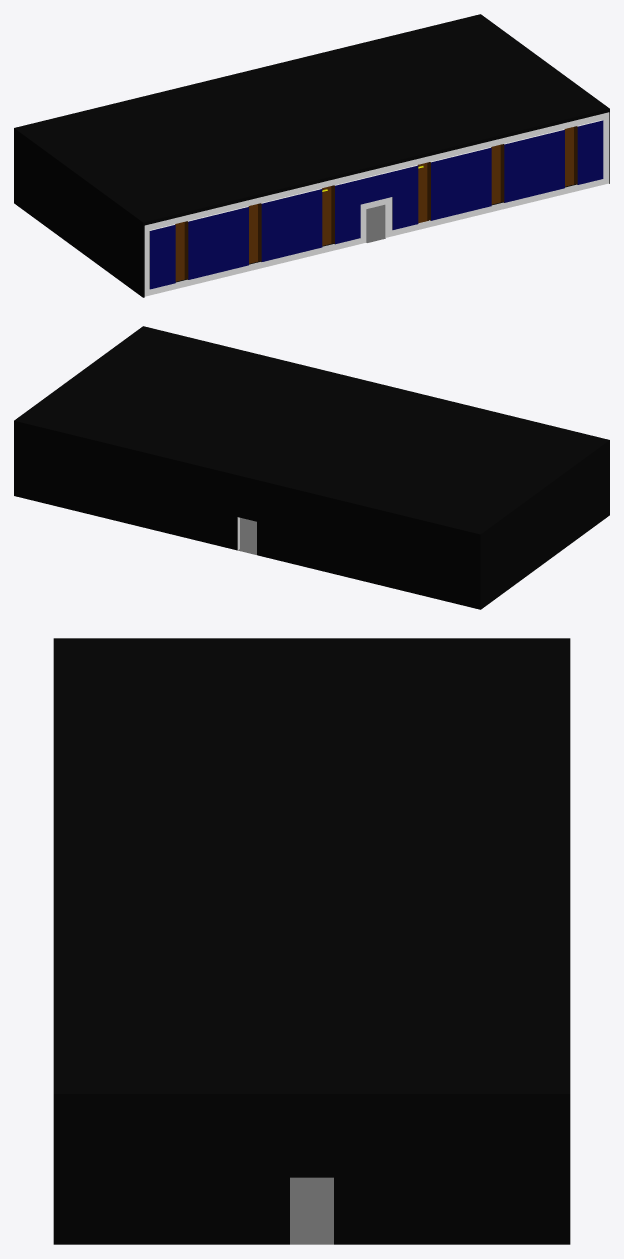
File: MainRoom 1.fbx
The picture shows the model from 3 angles, top to bottom: view 1: azimuth 30°, elevation 25°; view 2: azimuth 150°, elevation 25°; view 3: azimuth 270°, elevation 25°; orthographic projection. The views are drawn at different scales.
Visible parts, largest first — view 1: Model; view 2: Model; view 3: Model.
Boxes of the visible parts, <box> form: Model: <box>14,14,609,297</box>; Model: <box>14,326,609,609</box>; Model: <box>53,638,570,1244</box>.
Bounding box in the file's own units: 29.2 × 4.5 × 14.
